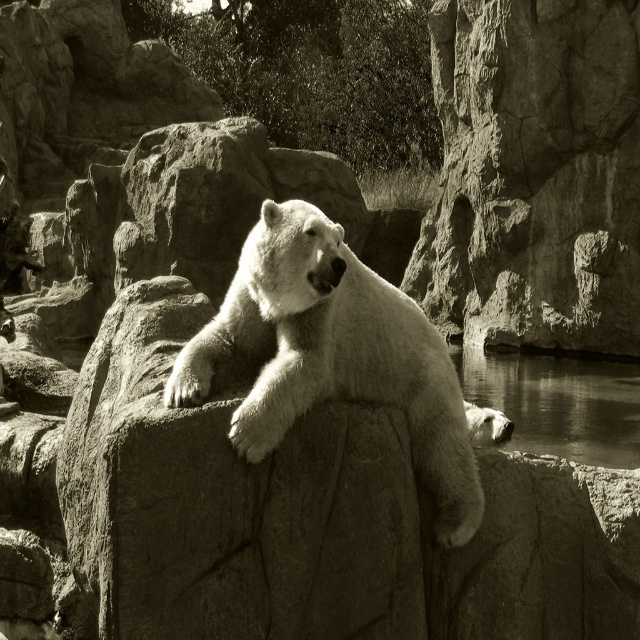Polar bear: (164, 197, 488, 547)
